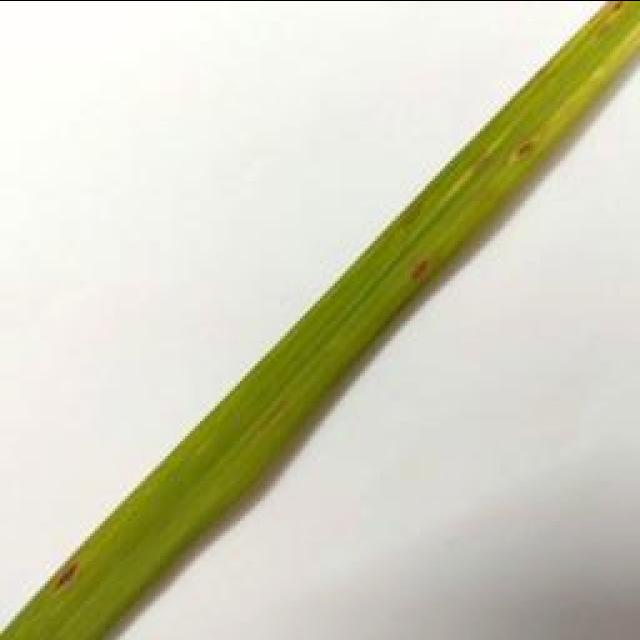Unhealthy: (53, 559, 81, 590), (510, 135, 539, 161), (408, 255, 432, 283)
